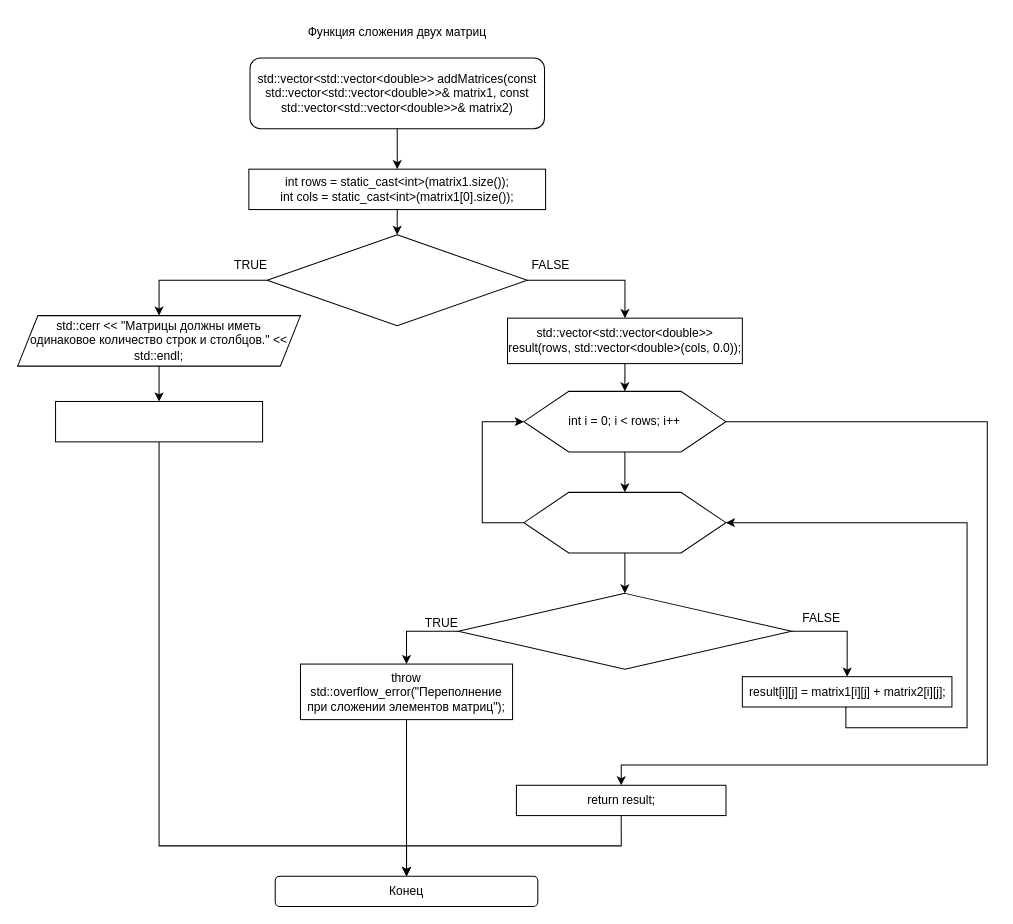
This 1013x924 diagram has some shape labels left out. The shapes that lost their labels are listed below. From the top down, each one's centre as x and y in pixels, then its label:
At [396,280]: "matrix1.size() != matrix2.size() || matrix1[0].size() != matrix2[0].size()".
At [159,421]: "return std::vector<std::vector<double>>();".
At [624,522]: "int j = 0; j < cols; j++".
At [624,630]: "(std::numeric_limits<double>::max)() - matrix1[i][j] < matrix2[i][j]".
